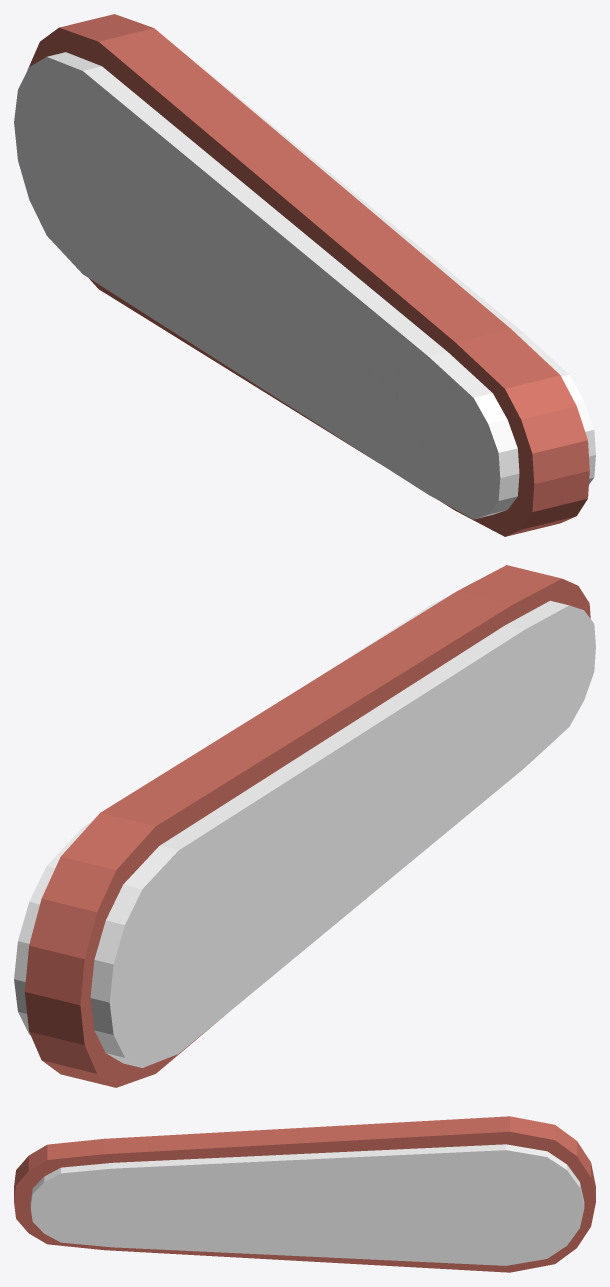
File: pinball2.fbx
The picture shows the model from 3 angles, top to bottom: view 1: azimuth 30°, elevation 25°; view 2: azimuth 150°, elevation 25°; view 3: azimuth 270°, elevation 25°; orthographic projection. The views are drawn at different scales.
Visible parts, largest first — view 1: Circle.001; view 2: Circle.001; view 3: Circle.001.
Part boxes in pixels (x1=…): Circle.001: x1=14, y1=14, x2=595, y2=536; Circle.001: x1=14, y1=565, x2=595, y2=1087; Circle.001: x1=14, y1=1116, x2=595, y2=1272.
Size of the model in its own units: 57.6 by 142 by 533.
